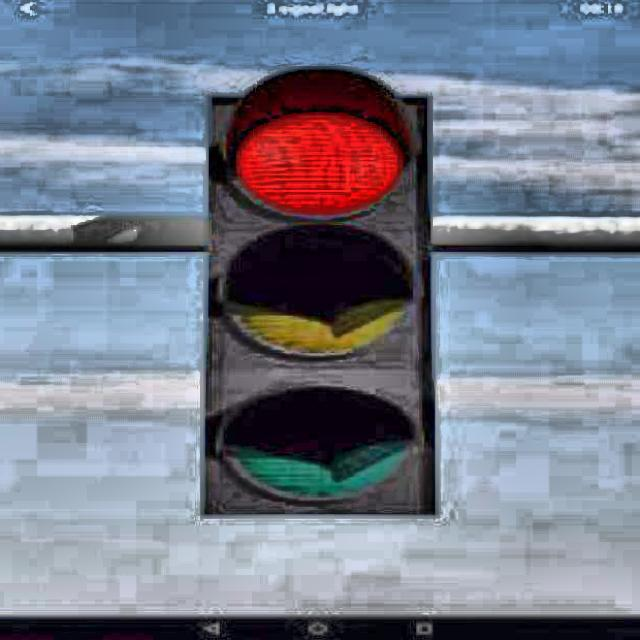red: (213, 67, 440, 515)
